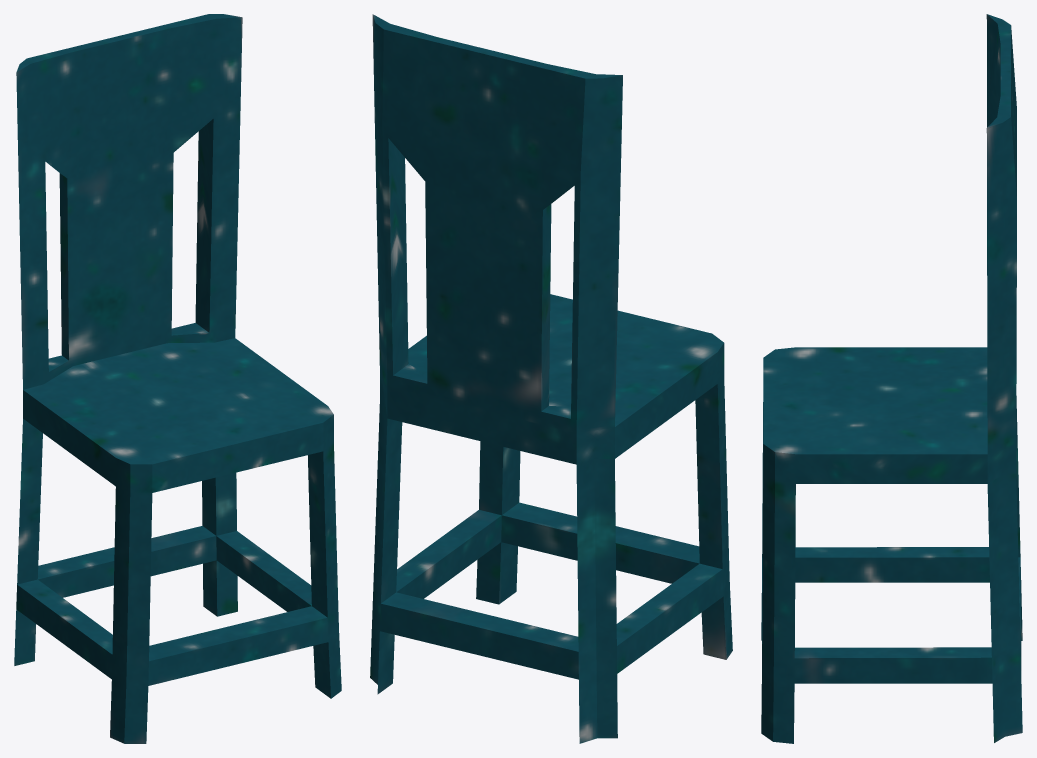
The model's file is Plastic_chari_1.fbx.
3 views of the same model, side by side, from view 1: azimuth 30°, elevation 25°; view 2: azimuth 150°, elevation 25°; view 3: azimuth 270°, elevation 25° (orthographic). The views are drawn at different scales.
Visible parts, largest first — view 1: Plastic Chair_1; view 2: Plastic Chair_1; view 3: Plastic Chair_1.
Boxes of the visible parts, x1,y1,x2,y2 form: Plastic Chair_1: (14, 14, 341, 743); Plastic Chair_1: (370, 14, 732, 743); Plastic Chair_1: (761, 14, 1022, 743).
Bounding box in the file's own units: 56.15 × 142 × 54.42.
